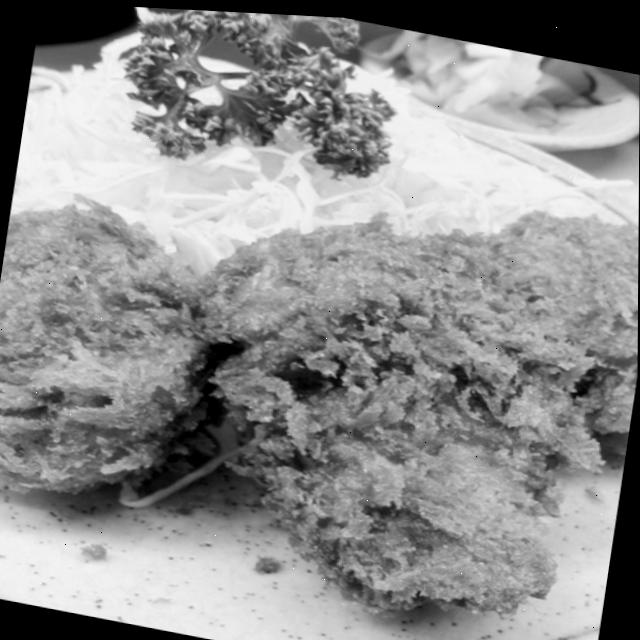牛肉菜式: (0, 14, 640, 640)
